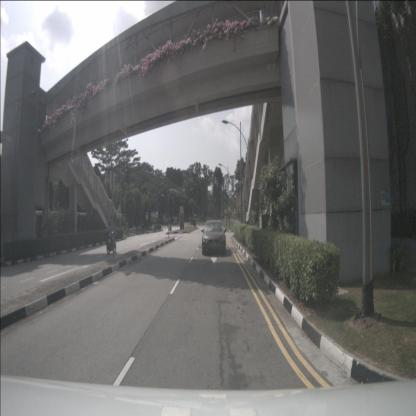vehicle-car: (202, 220, 226, 255)
vehicle-motorcycle: (106, 220, 116, 254)
